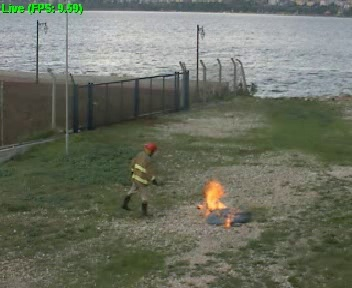fire: (203, 175, 223, 221)
